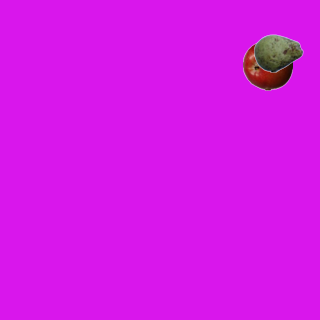Apple Braeburn: (242, 40, 292, 90)
Pear Stone: (253, 28, 303, 78)
